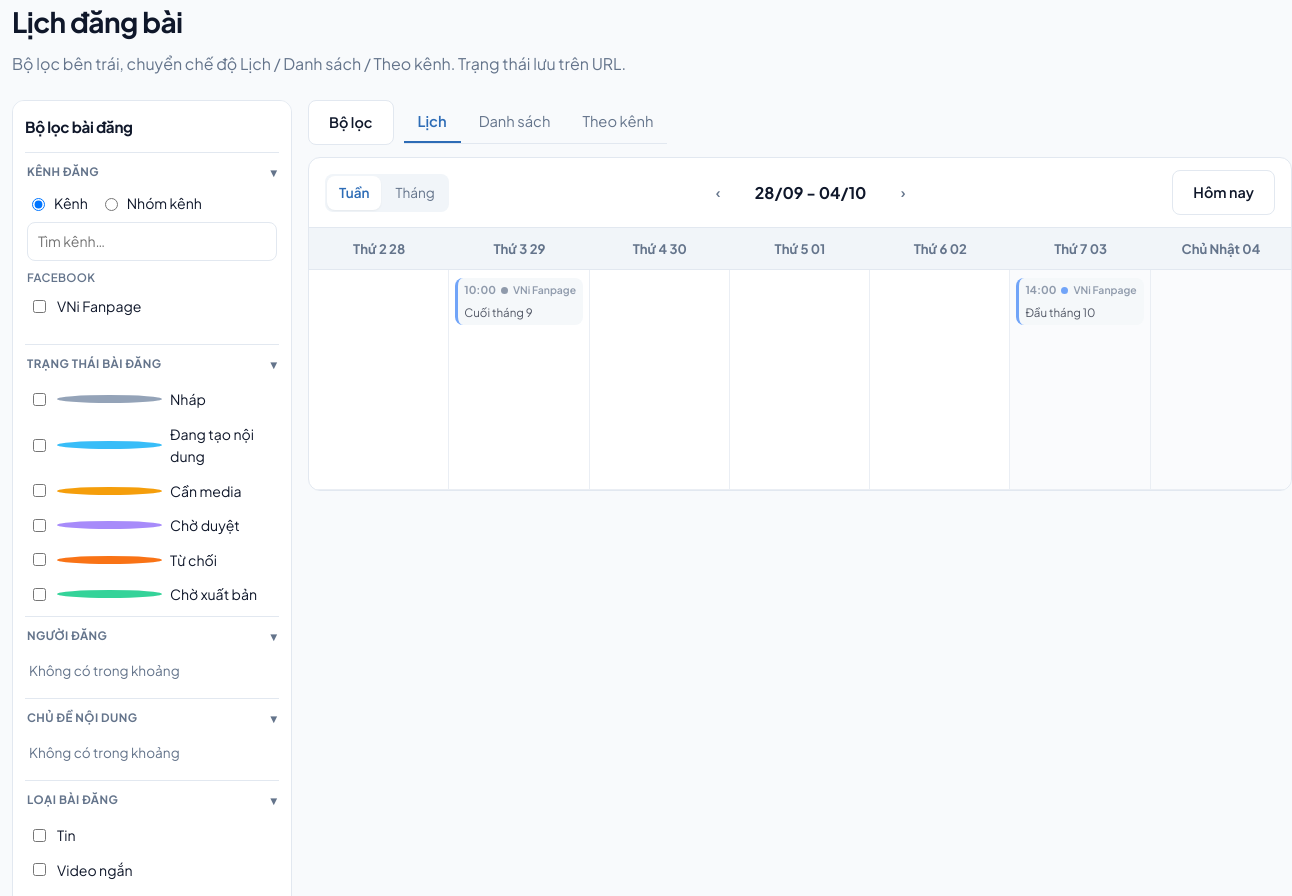
Test case: PostCalendar density/week trên URL — AC e90862c2 (calendar-week-url-test) › (c) Hôm nay đưa week về tuần hiện tại
The width and height of the screenshot is (1292, 896).
Click the button "Hôm nay".
click(1224, 193)  # box [1172, 170, 1275, 215]
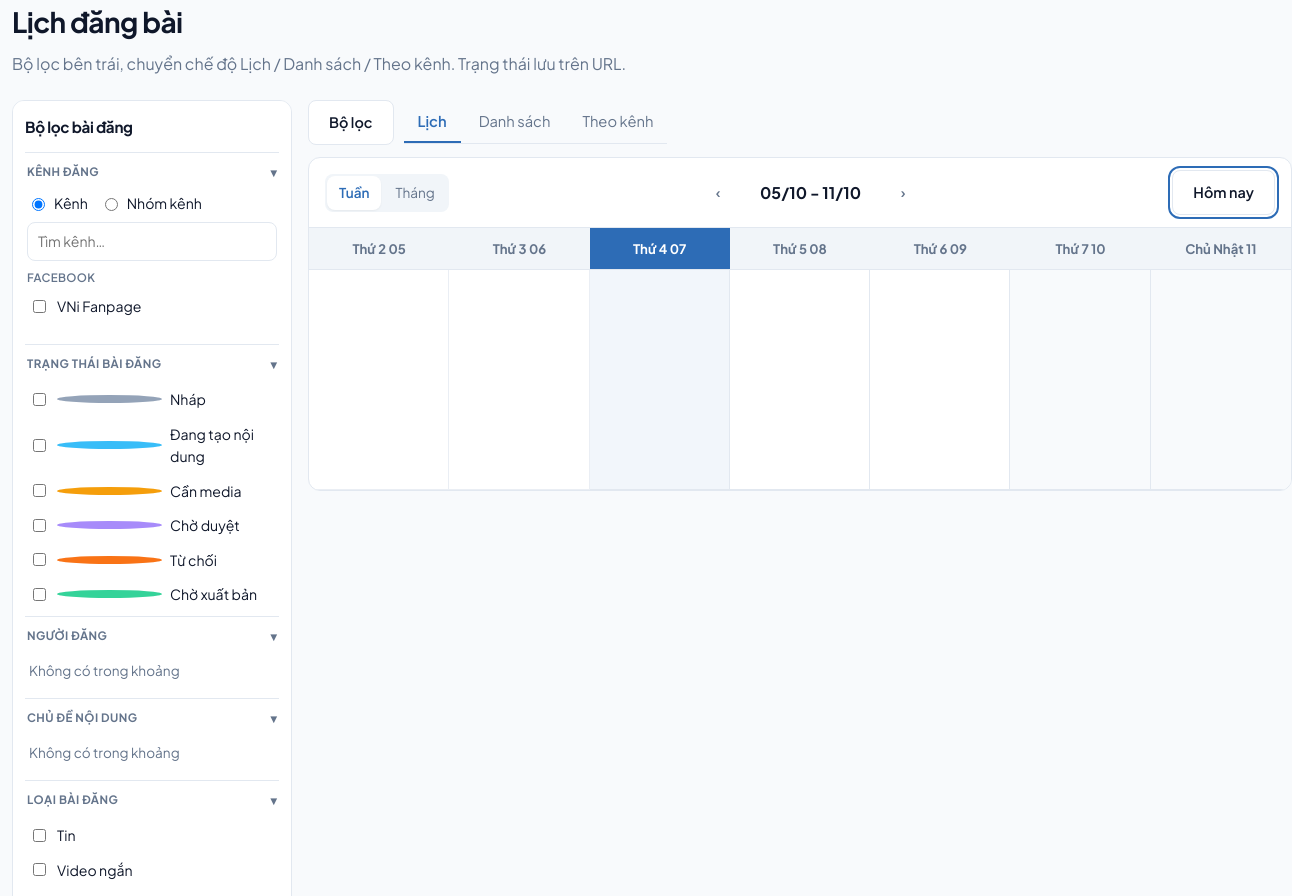
Now the text with test id "week-range-label" reads "05/10 - 11/10", box [760, 182, 861, 203]
